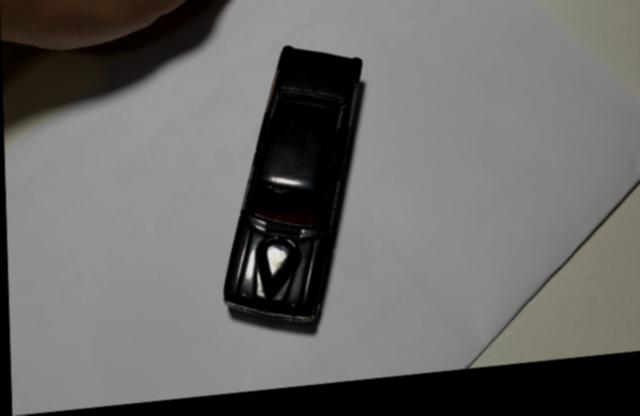01_FORD: (220, 53, 366, 334)
